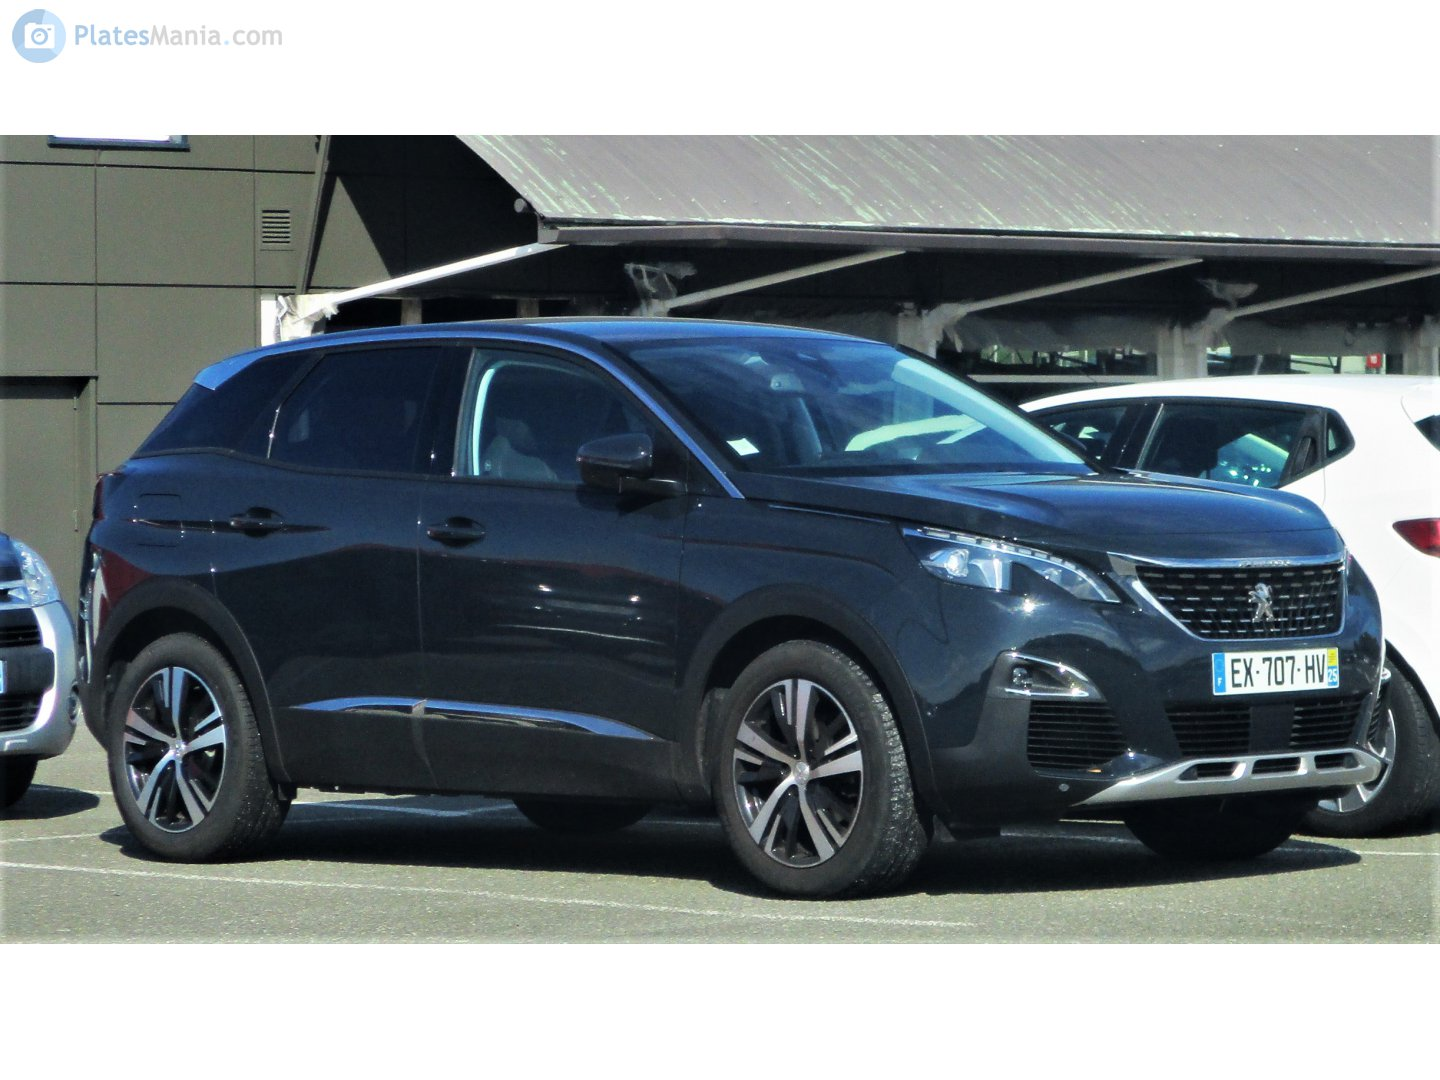licence plate: (1204, 643, 1352, 701)
